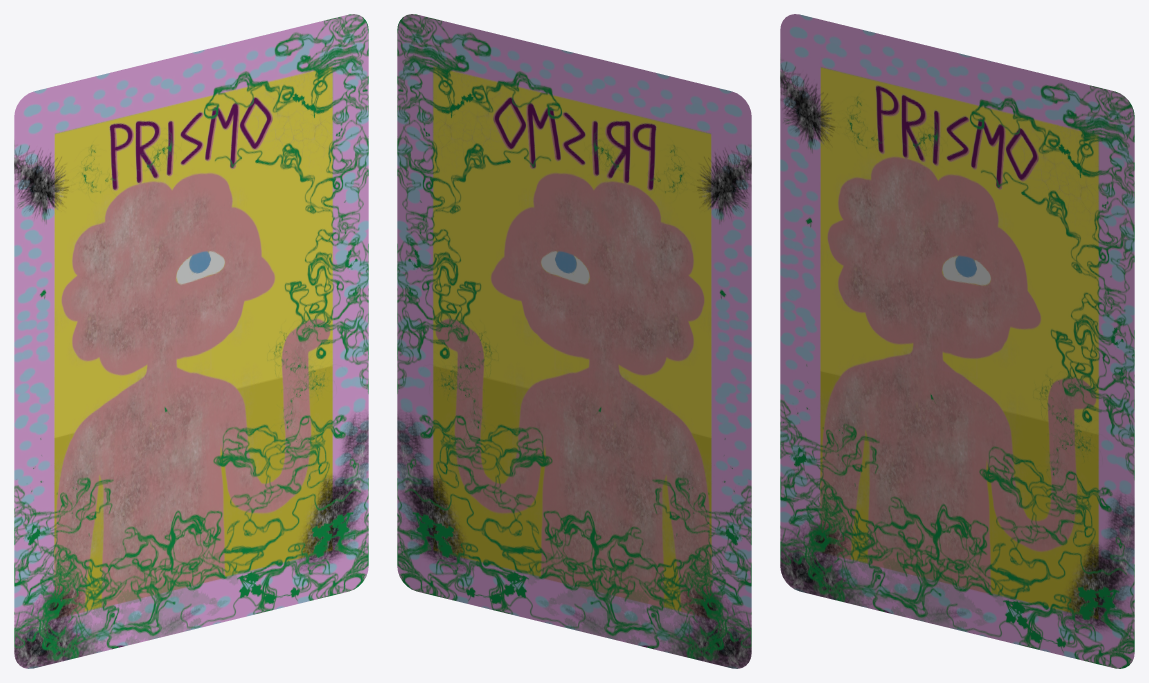
3 views of the same model, side by side, from view 1: azimuth 30°, elevation 25°; view 2: azimuth 150°, elevation 25°; view 3: azimuth 330°, elevation 25° (orthographic).
Visible parts, largest first — view 1: Loft001; view 2: Loft001; view 3: Loft001.
Part boxes in pixels (box(x1,y1,x2,y2)): Loft001: box(14, 14, 368, 668); Loft001: box(397, 14, 751, 668); Loft001: box(780, 14, 1134, 668).
Bounding box in the file's own units: 5.71 × 8.89 × 3.89e-07.
1 material, 1 textured.
